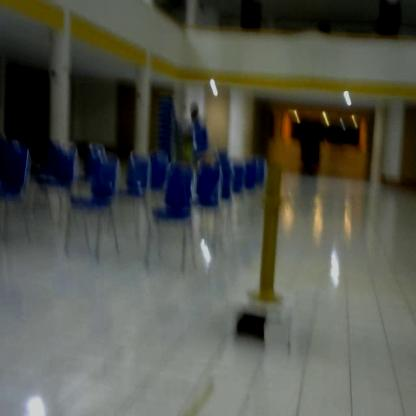pole: (245, 156, 293, 310)
